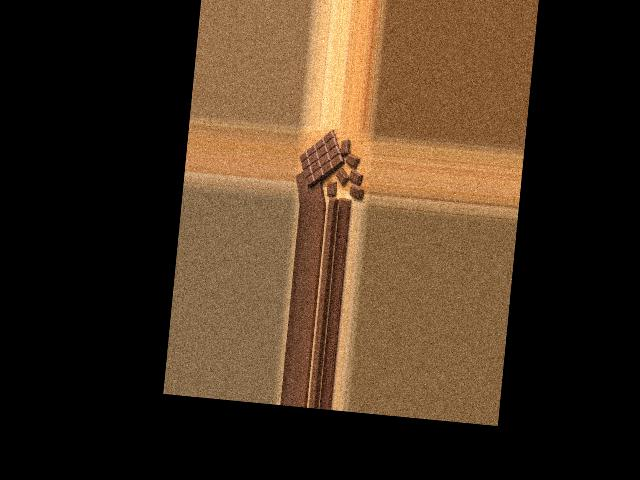chocolate: (296, 128, 349, 190)
